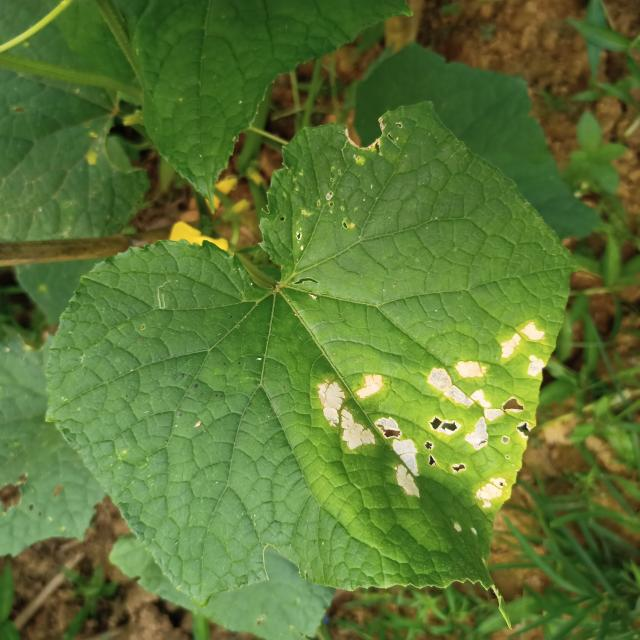disease_cucumber: (316, 316, 551, 540)
